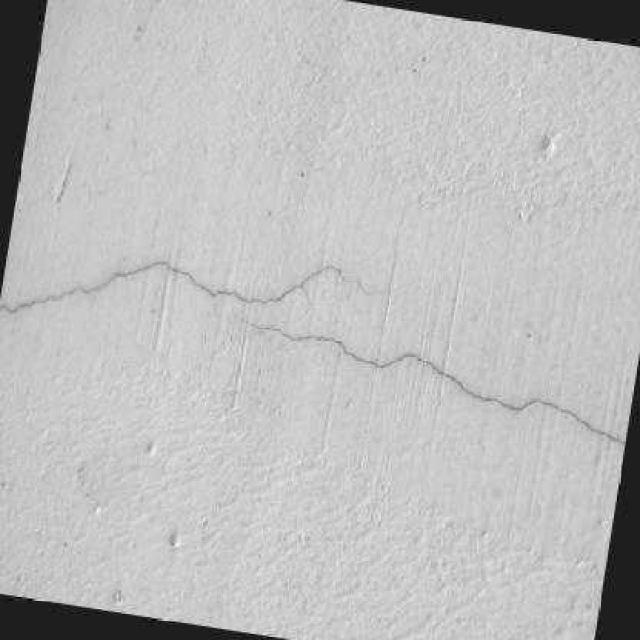D00: (243, 318, 625, 446), (0, 260, 378, 313)
